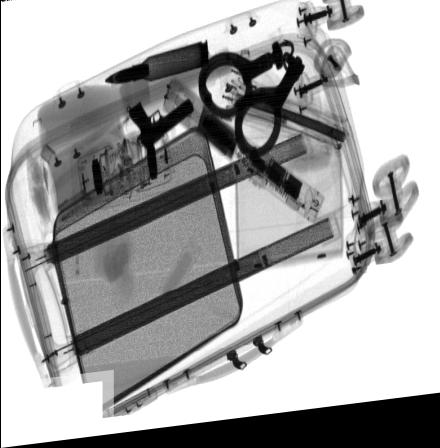Baton: (160, 80, 325, 235)
Bullet: (104, 43, 209, 89)
Gun: (127, 102, 195, 153)
HandCuffs: (197, 47, 304, 165)
